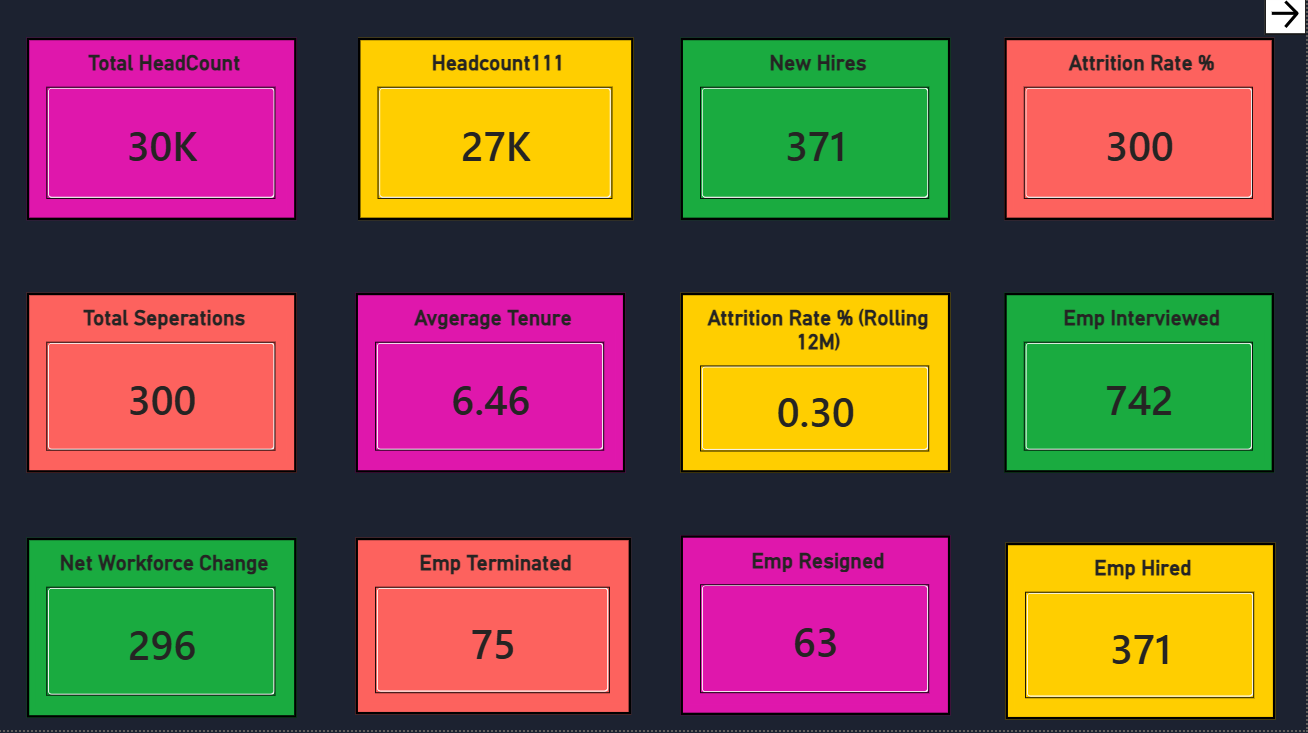

Layout of this report page (visuals, bound fields, positions):
{"tool":"powerbi","page":{"name":"KPIs","canvas":[1280,720],"ordinal":0},"visuals":[{"type":"cardVisual","title":"Headcount111","fields":{"Data":["Sum(fHeadcount.Headcount111)"]},"box":[352.5,42.5,269.4,178.3],"z":0},{"type":"cardVisual","title":"Total HeadCount","fields":{"Data":["fSeparations.Headcount121"]},"box":[28,42.5,264.3,178.3],"z":1000},{"type":"cardVisual","title":"Avgerage Tenure","fields":{"Data":["dEmployee.Avg Tenure"]},"box":[349.9,292.6,264.3,175.7],"z":2000},{"type":"cardVisual","title":"Total Seperations","fields":{"Data":["fSeparations.Separations111"]},"box":[28,292.6,264.3,175.7],"z":3000},{"type":"cardVisual","title":"Attrition Rate %","fields":{"Data":["CountNonNull(fSeparations.Attrition Rate %)"]},"box":[984.9,42.5,264.3,178.3],"z":4000},{"type":"cardVisual","title":"New Hires","fields":{"Data":["Hiring Funnel Stages.New Hires"]},"box":[668.1,42.5,264.3,178.3],"z":5000},{"type":"cardVisual","title":"Attrition Rate % (Rolling 12M)","fields":{"Data":["fSeparations.Attrition Rate % (Rolling 12M)"]},"box":[668.1,292.6,264.3,175.7],"z":6000},{"type":"cardVisual","title":"Net Workforce Change","fields":{"Data":["dEmployee.Net Workforce Change"]},"box":[28,532.5,264.3,175.7],"z":7000},{"type":"cardVisual","title":"Emp Resigned","fields":{"Data":["dEmployee.Employees Resigned"]},"box":[668.1,529.9,264.3,175.7],"z":8000},{"type":"cardVisual","title":"Emp Terminated","fields":{"Data":["dEmployee.Employees Terminated"]},"box":[349.9,532.5,269.4,173.2],"z":9000},{"type":"cardVisual","title":"Emp Hired","fields":{"Data":["dEmployee.Employees Hired"]},"box":[985.4,536.5,264.1,172.4],"z":10000},{"type":"cardVisual","title":"Emp Interviewed","fields":{"Data":["Hiring Funnel Stages.Interviewed"]},"box":[984.9,292.6,264.3,175.7],"z":11000},{"type":"actionButton","box":[1238.7,0,41.6,40.4],"z":12000}]}

Visuals, with their boxes in screenshot pixels (x1, y1, x2, y2), scaled from the page's 1280x720 canvas onto the 1308x733 screenshot:
"Headcount111" cardVisual: {"left": 360, "top": 43, "right": 636, "bottom": 225}
"Total HeadCount" cardVisual: {"left": 29, "top": 43, "right": 299, "bottom": 225}
"Avgerage Tenure" cardVisual: {"left": 358, "top": 298, "right": 628, "bottom": 477}
"Total Seperations" cardVisual: {"left": 29, "top": 298, "right": 299, "bottom": 477}
"Attrition Rate %" cardVisual: {"left": 1006, "top": 43, "right": 1277, "bottom": 225}
"New Hires" cardVisual: {"left": 683, "top": 43, "right": 953, "bottom": 225}
"Attrition Rate % (Rolling 12M)" cardVisual: {"left": 683, "top": 298, "right": 953, "bottom": 477}
"Net Workforce Change" cardVisual: {"left": 29, "top": 542, "right": 299, "bottom": 721}
"Emp Resigned" cardVisual: {"left": 683, "top": 539, "right": 953, "bottom": 718}
"Emp Terminated" cardVisual: {"left": 358, "top": 542, "right": 633, "bottom": 718}
"Emp Hired" cardVisual: {"left": 1007, "top": 546, "right": 1277, "bottom": 722}
"Emp Interviewed" cardVisual: {"left": 1006, "top": 298, "right": 1277, "bottom": 477}
actionButton: {"left": 1266, "top": 0, "right": 1307, "bottom": 41}
